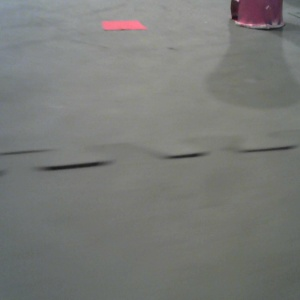middle: (48, 1, 113, 46)
